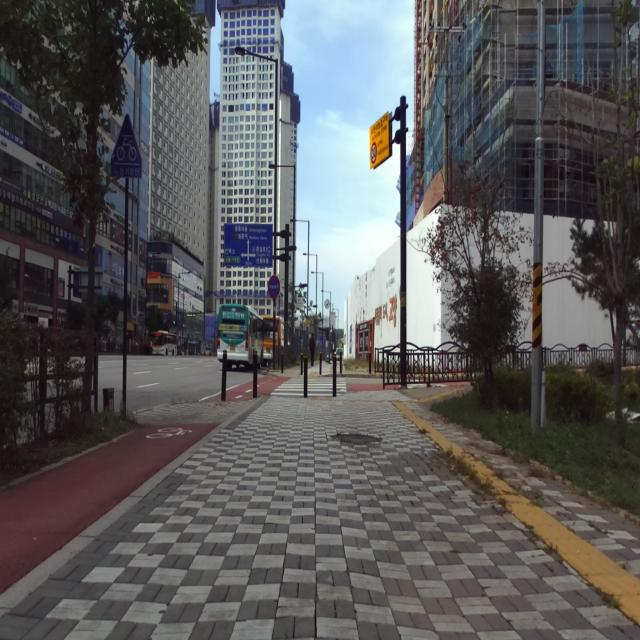횡단보도: (270, 377, 347, 396)
